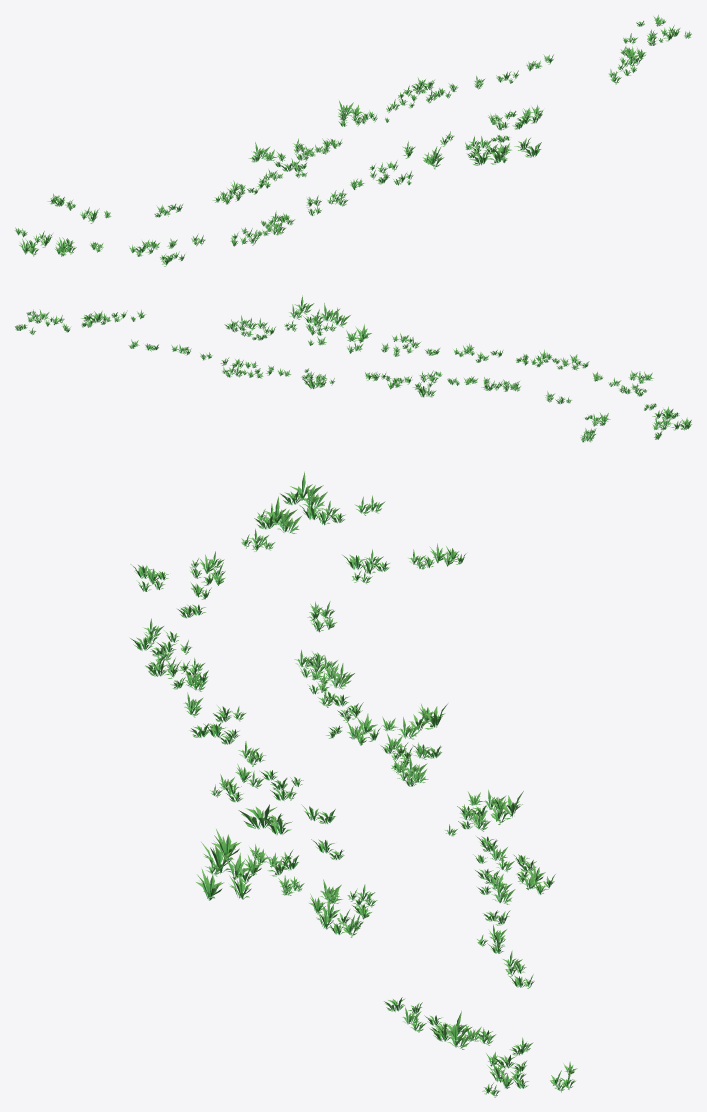
File: area_03_13.fbx
3 views of the same model, one above another, from view 1: azimuth 30°, elevation 25°; view 2: azimuth 150°, elevation 25°; view 3: azimuth 270°, elevation 25° (orthographic). The views are drawn at different scales.
Visible parts, largest first — view 1: area_03_13; view 2: area_03_13; view 3: area_03_13.
Boxes of the visible parts, left/top/right/bottom form: area_03_13: left=14, top=14, right=691, bottom=266; area_03_13: left=15, top=295, right=691, bottom=442; area_03_13: left=130, top=471, right=577, bottom=1097.
Size of the model in its own units: 86.16 by 2.12 by 27.07.
